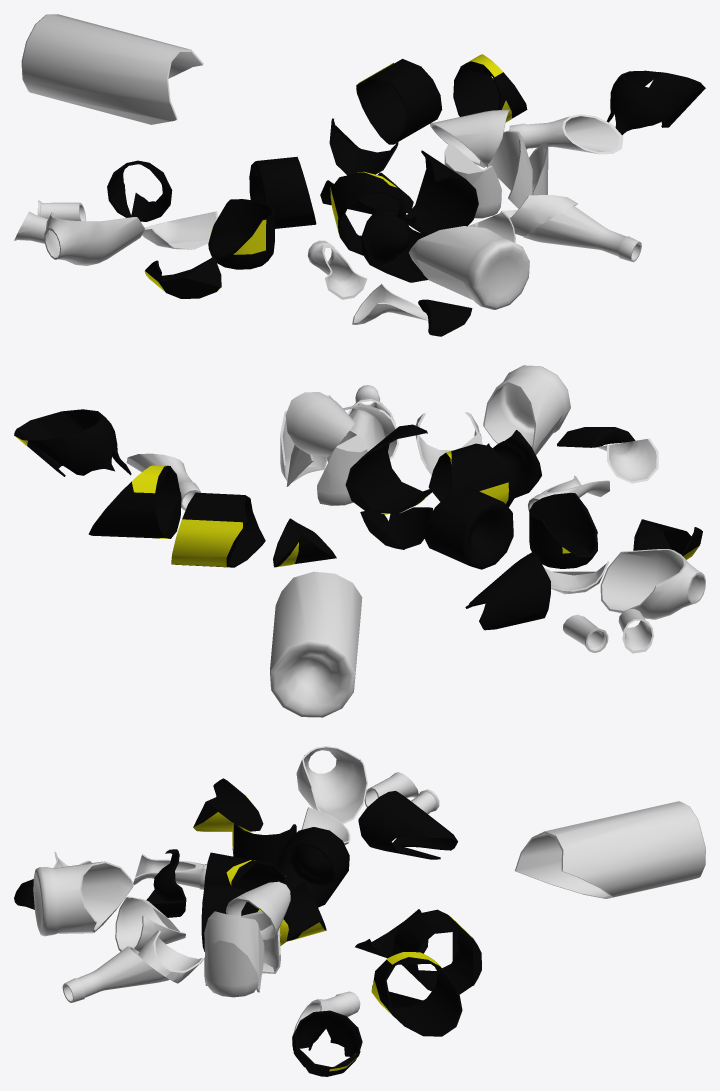
File: SM_Bottle_Cluster_01.fbx
The picture shows the model from 3 angles, top to bottom: view 1: azimuth 30°, elevation 25°; view 2: azimuth 150°, elevation 25°; view 3: azimuth 270°, elevation 25°; orthographic projection. The views are drawn at different scales.
Visible parts, largest first — view 1: SM_Bottle_Cluster_01_LOD0; view 2: SM_Bottle_Cluster_01_LOD0; view 3: SM_Bottle_Cluster_01_LOD0.
Part boxes in pixels (<box>): SM_Bottle_Cluster_01_LOD0: <box>14,14,705,336</box>; SM_Bottle_Cluster_01_LOD0: <box>14,365,705,717</box>; SM_Bottle_Cluster_01_LOD0: <box>14,746,705,1076</box>.
Bounding box in the file's own units: 64.78 × 61.95 × 8.63.
